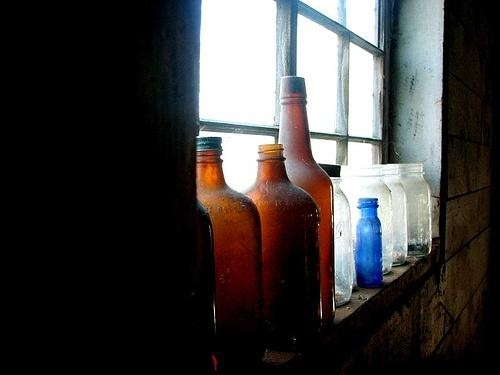bottle: (239, 144, 318, 353), (197, 136, 266, 363), (279, 75, 337, 326), (356, 196, 383, 290)
